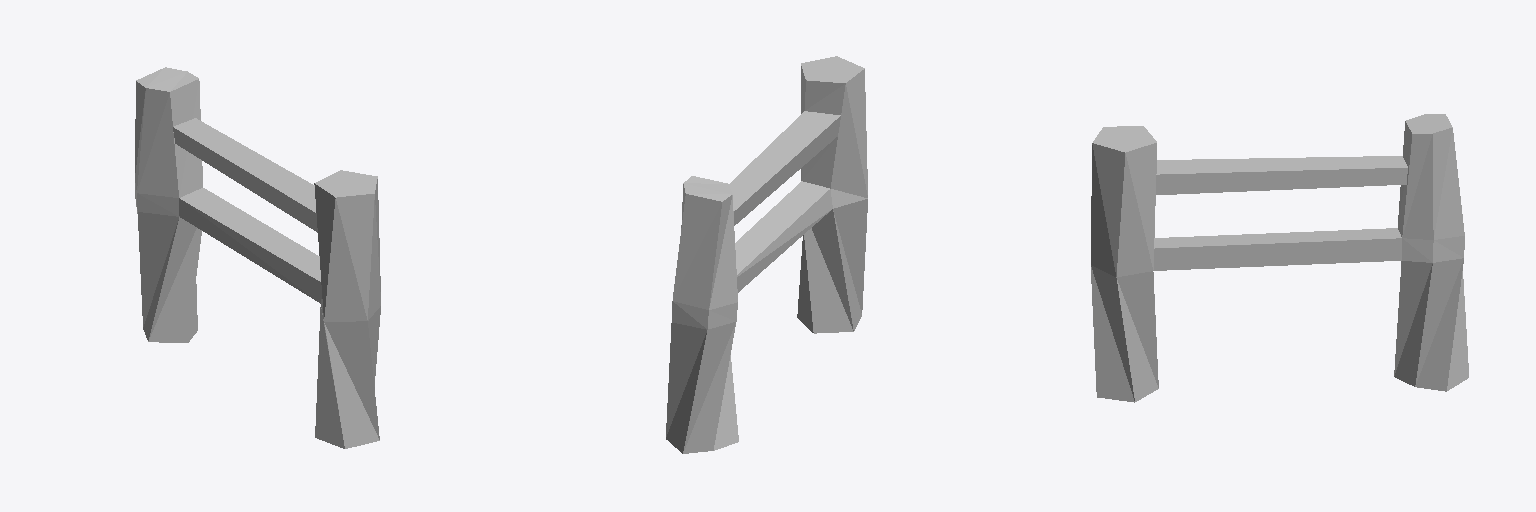
File: fence.obj
The picture shows the model from 3 angles: view 1: azimuth 30°, elevation 25°; view 2: azimuth 150°, elevation 25°; view 3: azimuth 270°, elevation 25°; orthographic projection.
Visible parts, largest first — view 1: Cylinder; view 2: Cylinder; view 3: Cylinder.
Boxes of the visible parts, <box> form: Cylinder: <box>135,67,380,448</box>; Cylinder: <box>666,56,867,453</box>; Cylinder: <box>1091,114,1468,402</box>.
Bounding box in the file's own units: 1.17 × 3.17 × 4.3.